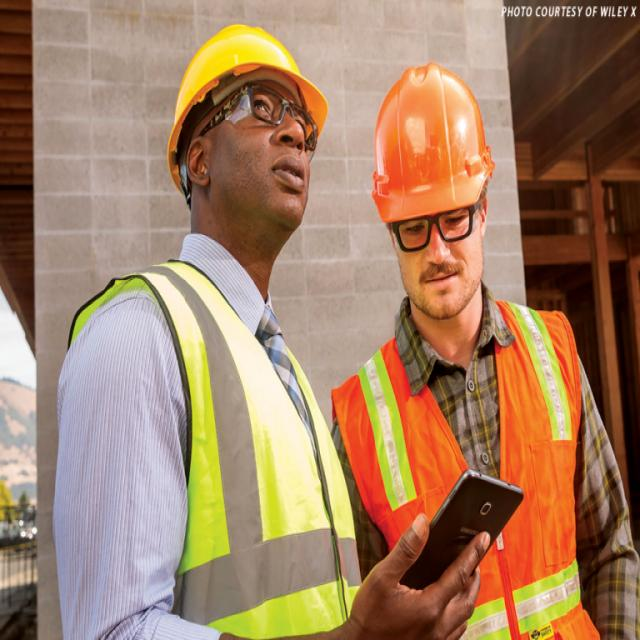Helmet: (359, 54, 508, 215), (159, 12, 339, 138)
Protective Glasses: (177, 85, 329, 158), (383, 205, 483, 246)
Vest: (51, 262, 362, 640), (326, 303, 640, 640)
